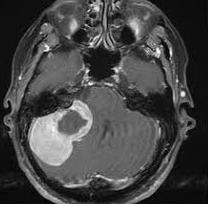Tumour-Meningioma: (22, 93, 96, 174)
